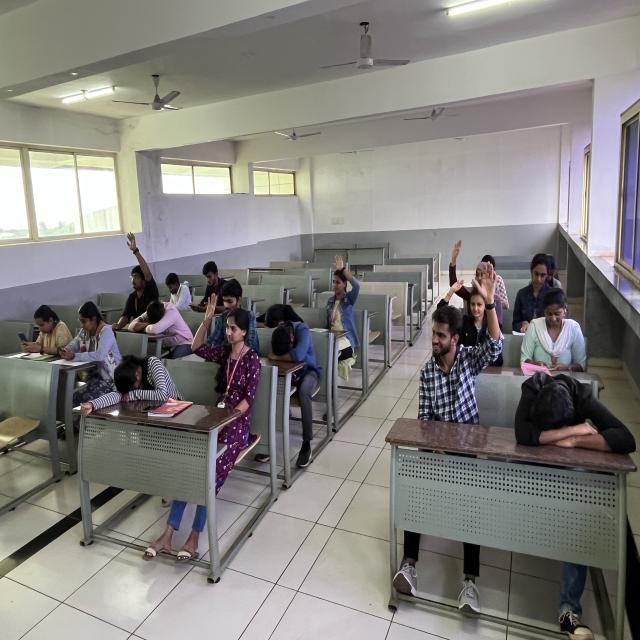Hand Rising: (419, 255, 504, 430), (190, 288, 254, 414), (323, 243, 365, 375), (445, 230, 500, 314), (122, 224, 160, 318)
Sleeping: (506, 365, 640, 458), (76, 349, 197, 422), (126, 292, 198, 354), (269, 318, 322, 390), (253, 296, 319, 340)
Using Phone: (524, 289, 596, 376), (56, 299, 128, 372), (13, 299, 75, 360), (188, 261, 228, 314)
